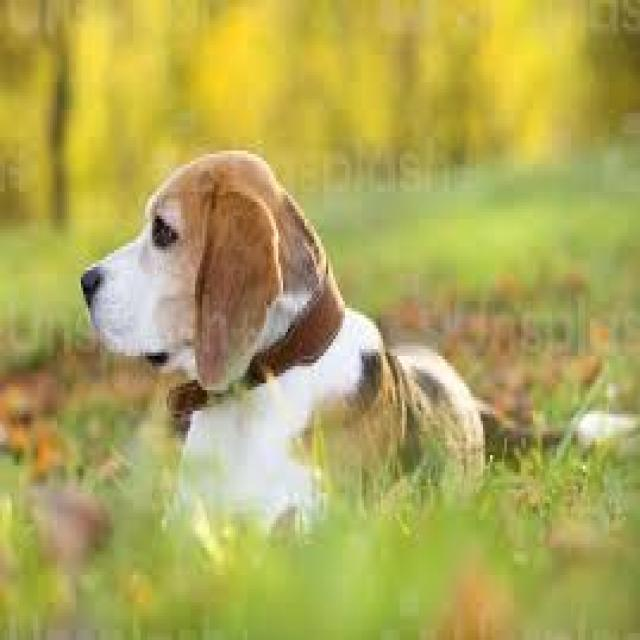Dog: (78, 142, 628, 530)
